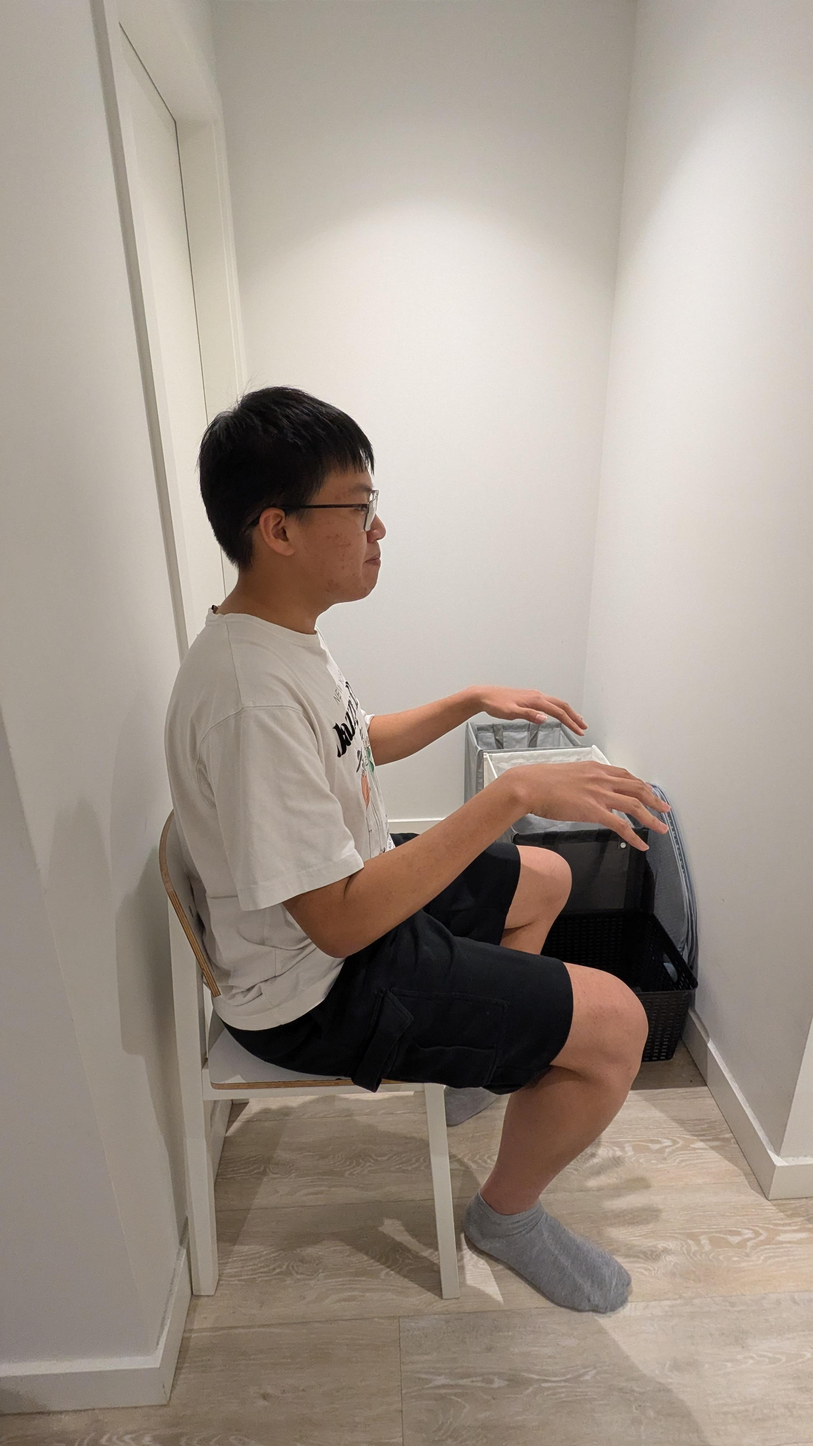GoodPosture: (165, 386, 672, 1313)
